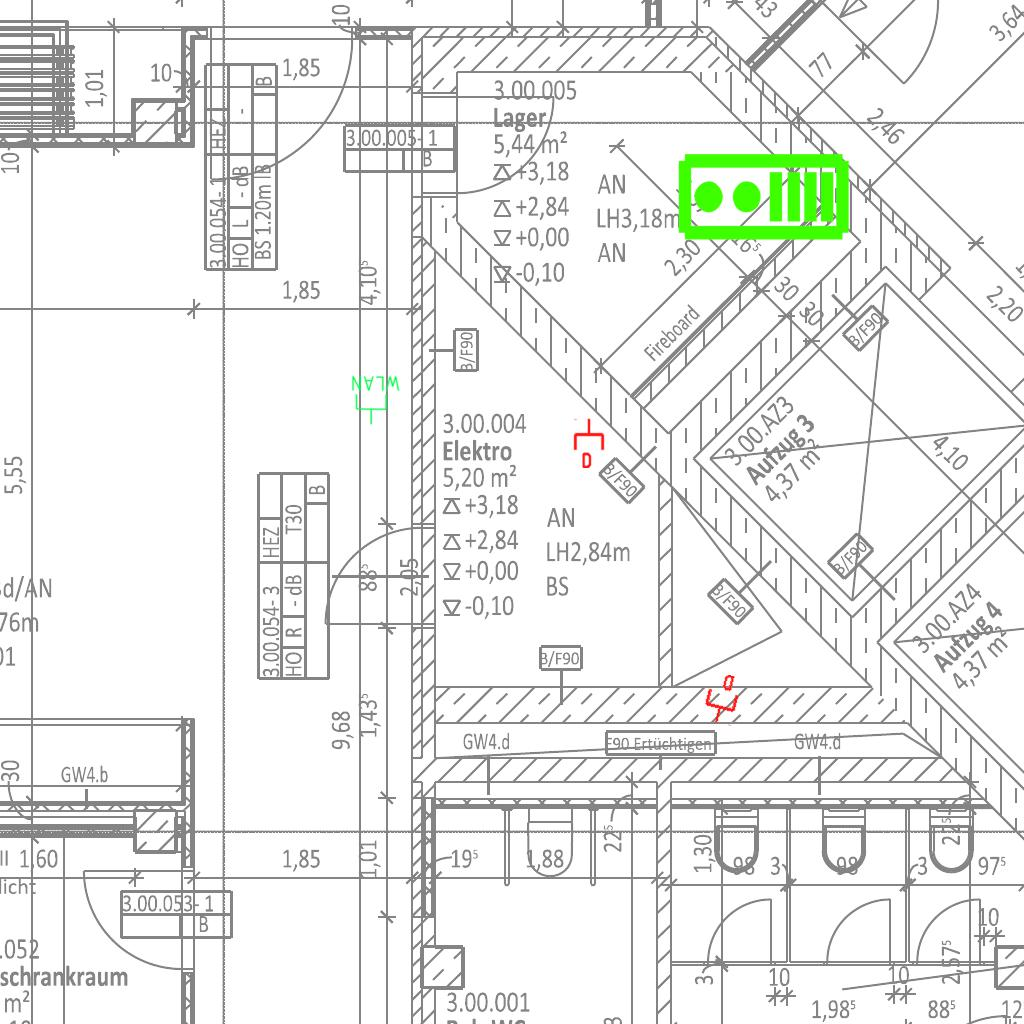Datenanschluss_einfach: (699, 670, 745, 728), (572, 418, 606, 468)
Gegensprechanlage_mit_Video: (675, 151, 851, 246)
WLAN: (350, 374, 402, 426)
